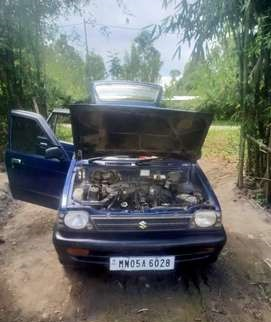MN05A6028: (109, 256, 174, 270)
